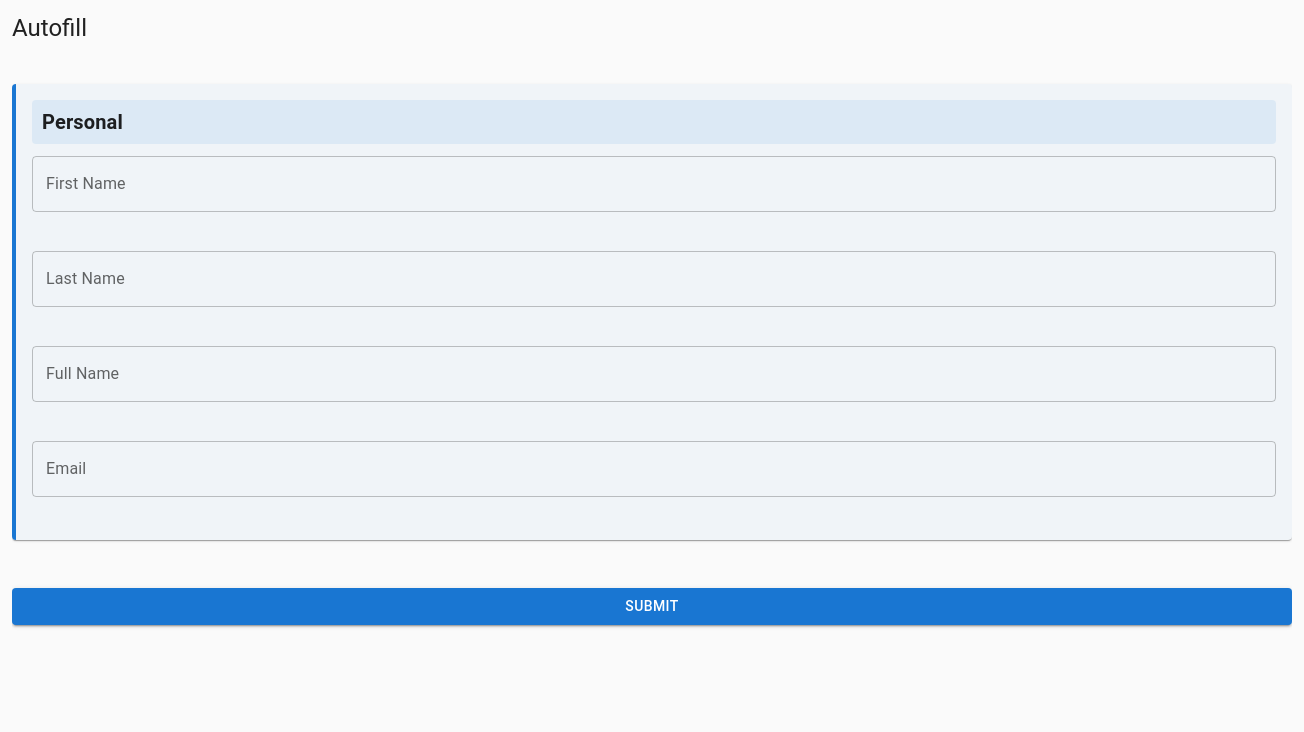
Test case: autofill populates mapped fields
Type "Simona" into the field labelled "First Name" at (654, 184), box [32,156,1276,212]
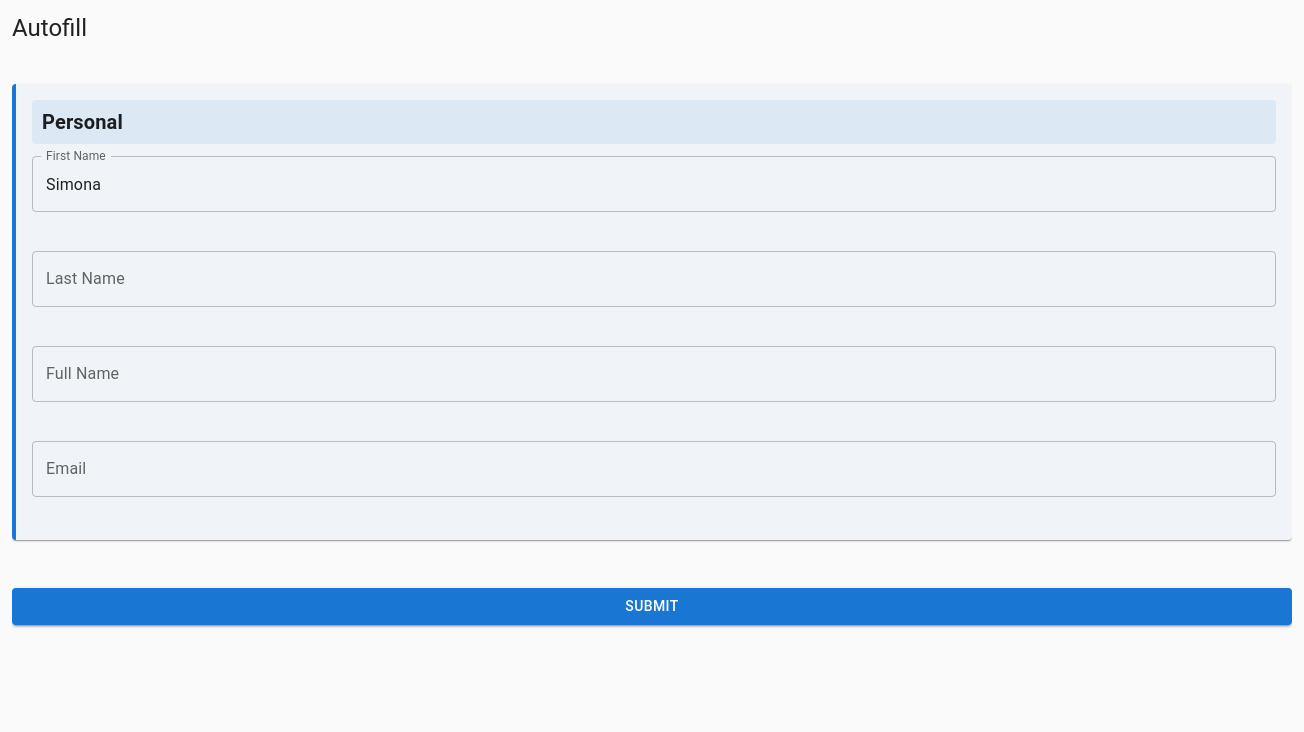
Type "Cholashka" into the field labelled "Last Name" at (654, 279), box [32,251,1276,307]
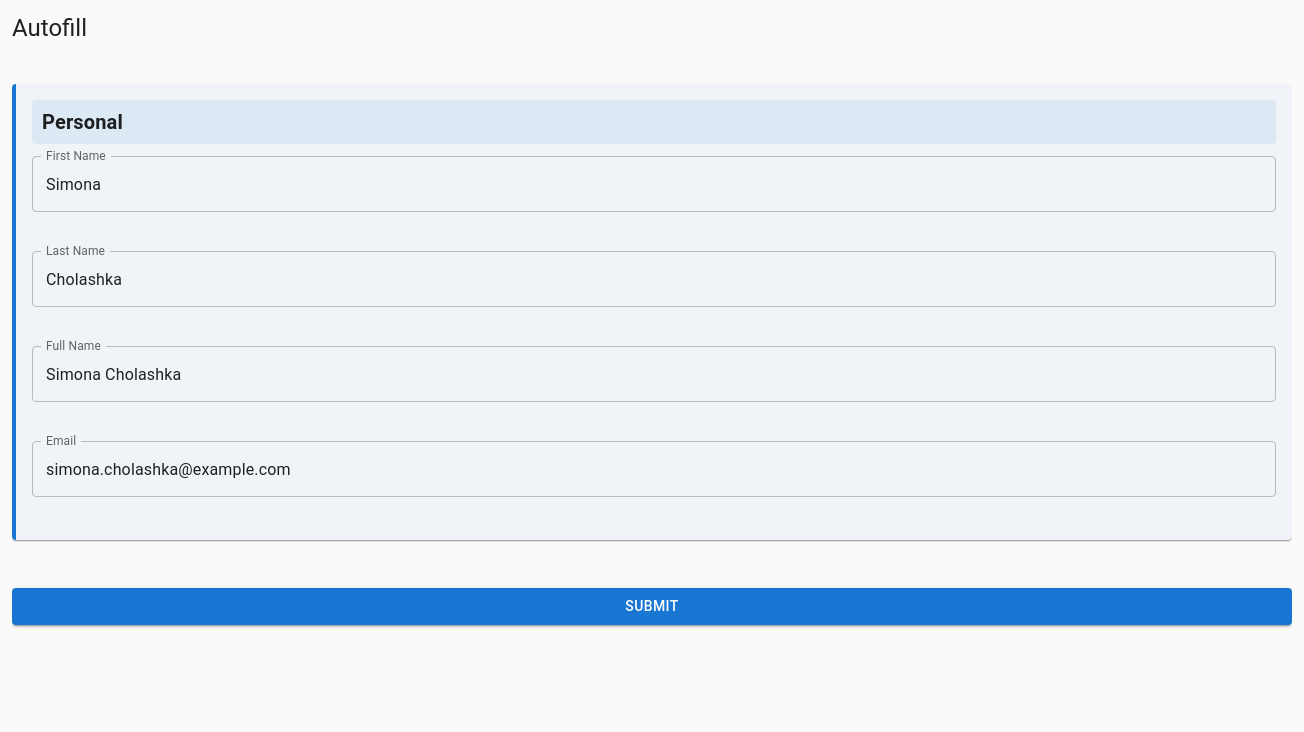
expect the field labelled "Full Name" holds "Simona Cholashka": met, box [32,346,1276,402]
